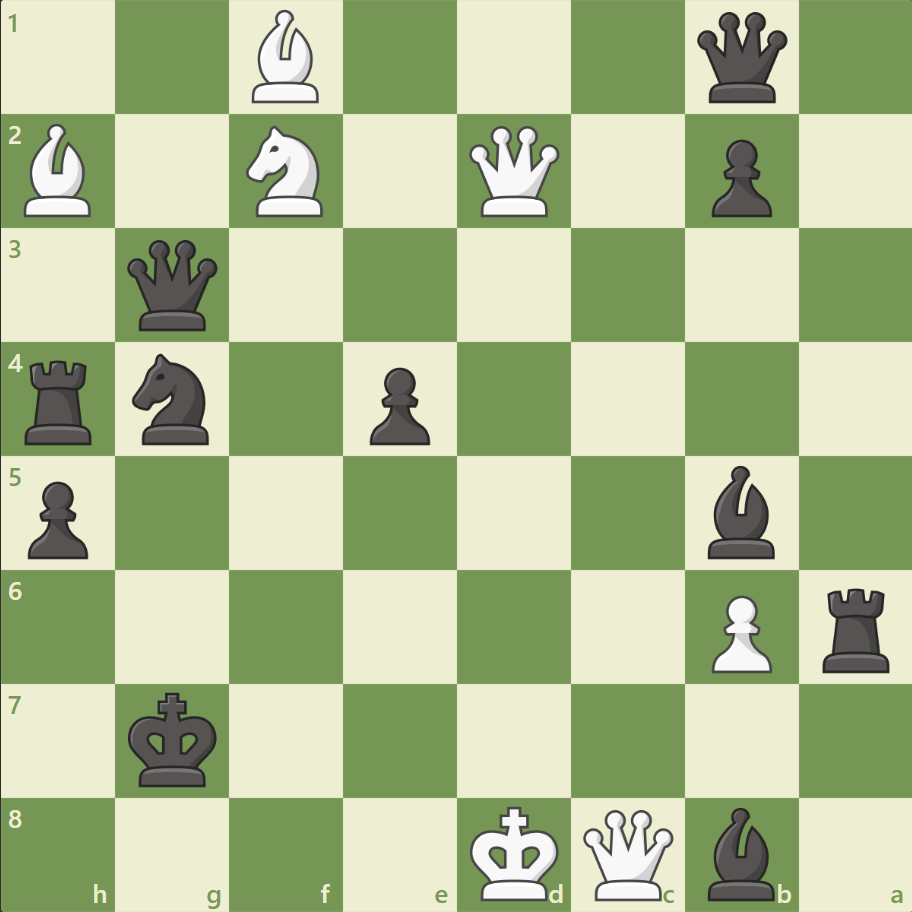B: (244, 6, 328, 109), (17, 120, 101, 222)
K: (465, 798, 565, 906)
N: (238, 121, 335, 223)
P: (701, 586, 776, 677)
Q: (464, 122, 563, 222), (578, 804, 677, 903)
b: (698, 801, 782, 904), (698, 460, 782, 563)
k: (124, 685, 224, 793)
n: (124, 348, 222, 450)
p: (20, 473, 95, 564), (701, 132, 776, 223), (361, 359, 435, 450)
q: (124, 236, 223, 335), (691, 9, 790, 108)
r: (814, 579, 897, 676), (19, 352, 102, 449)
